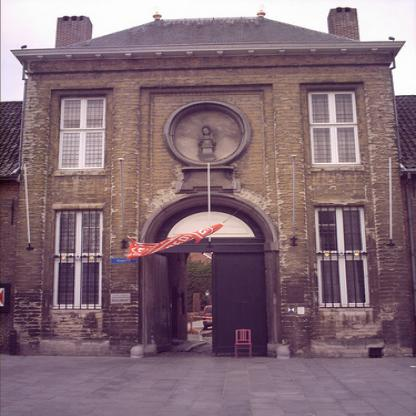car: (201, 304, 213, 331)
chair: (234, 328, 253, 359)
